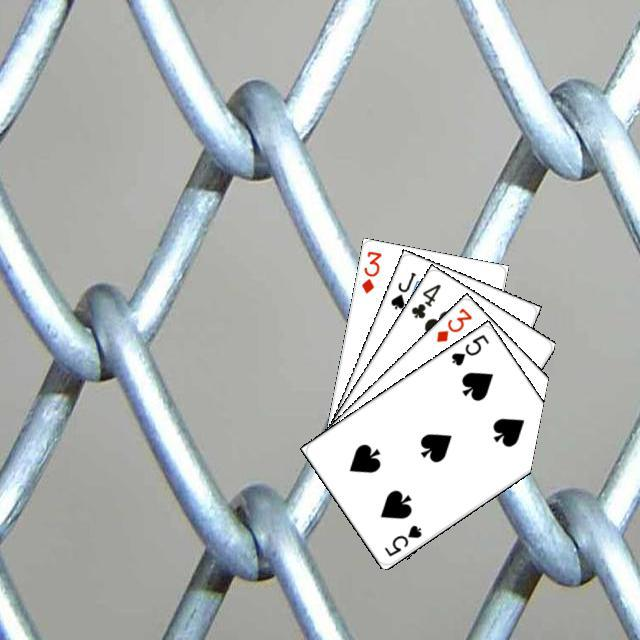3d: (431, 303, 474, 344), (356, 246, 384, 295)
4c: (406, 279, 443, 321)
5s: (446, 329, 491, 367), (379, 520, 423, 558)
Js: (386, 267, 417, 311)
